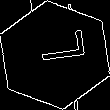L_W: (26, 36, 84, 74)
